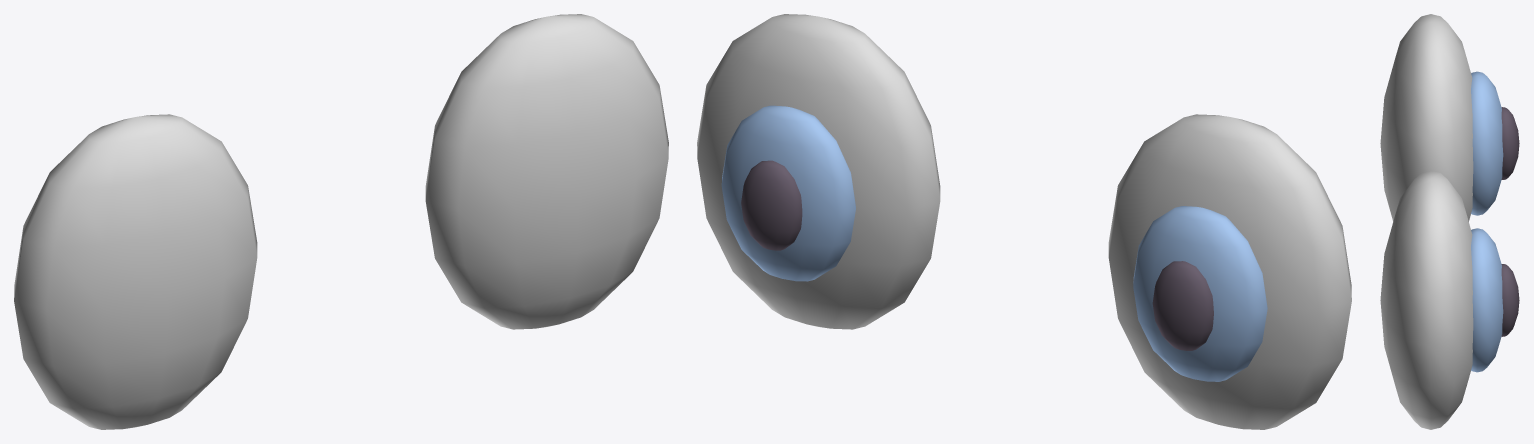
File: eyes-chibi-02.glb
3 renders of one model, left to right at view 1: azimuth 30°, elevation 25°; view 2: azimuth 150°, elevation 25°; view 3: azimuth 270°, elevation 25°, orthographic. The views are drawn at different scales.
Bounding box in the file's own units: 0.7 × 0.3172 × 0.165.
